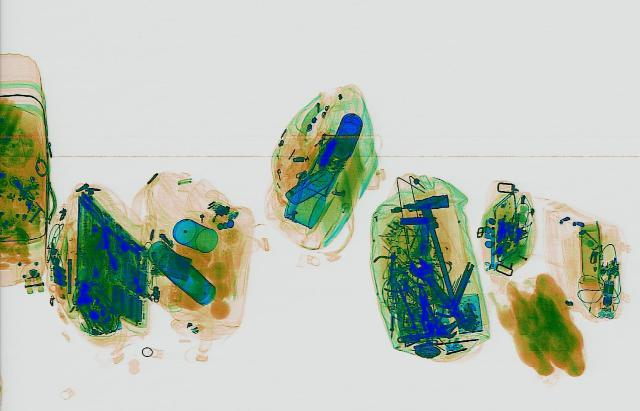Pliers: (360, 248, 410, 282), (379, 267, 431, 294)
Wrench: (398, 254, 480, 329), (391, 321, 461, 348)
